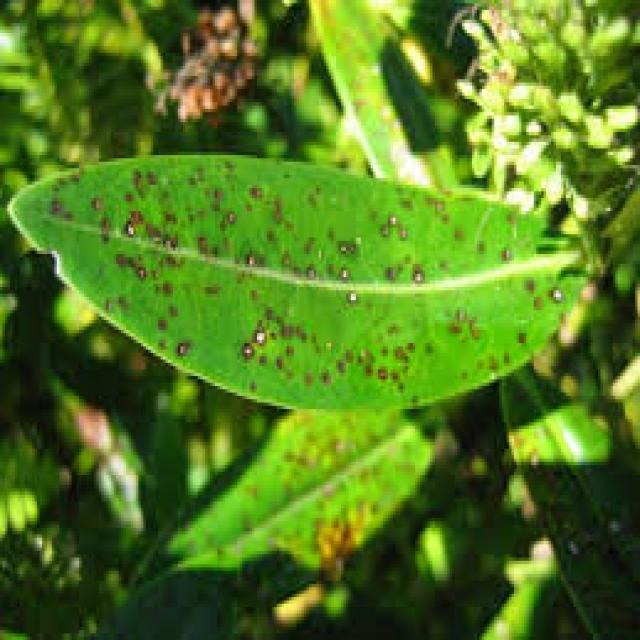black-spot: (92, 179, 354, 305)
